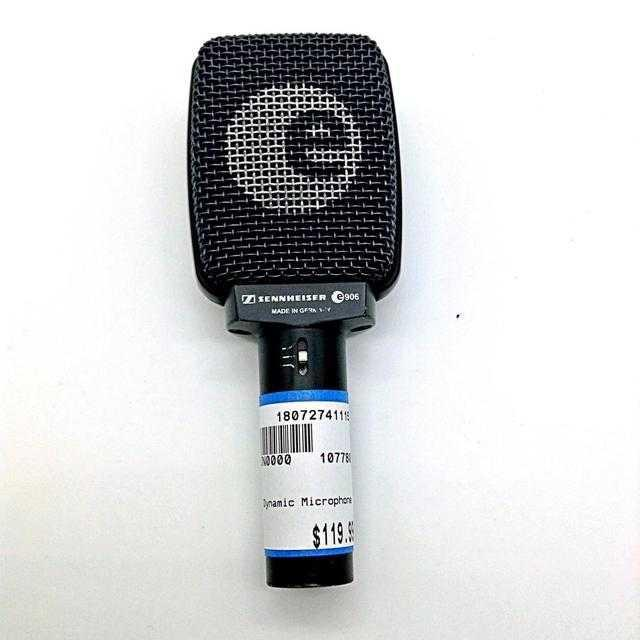microphone: (184, 33, 413, 585)
